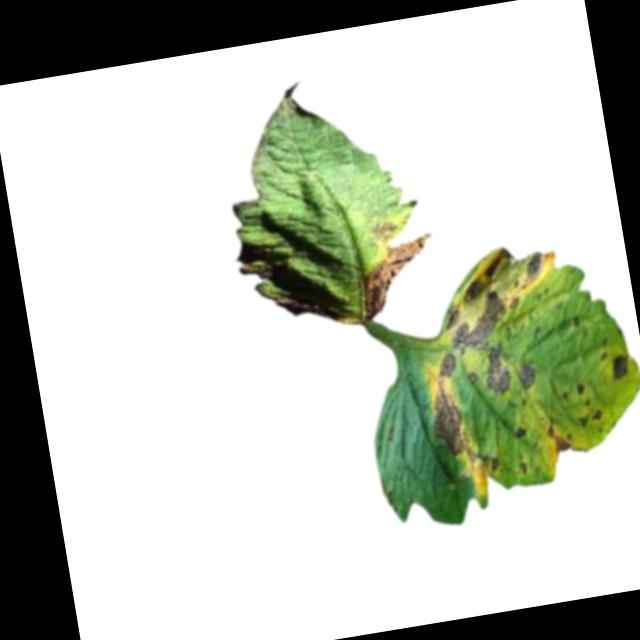Early_blight: (434, 238, 569, 354), (349, 232, 442, 320), (428, 384, 476, 461), (480, 346, 514, 399), (544, 413, 572, 455), (369, 215, 398, 242), (609, 351, 634, 382), (516, 360, 538, 389), (576, 405, 604, 427), (437, 350, 458, 378), (514, 422, 528, 439), (488, 454, 502, 471), (575, 380, 586, 397), (466, 371, 478, 383)
